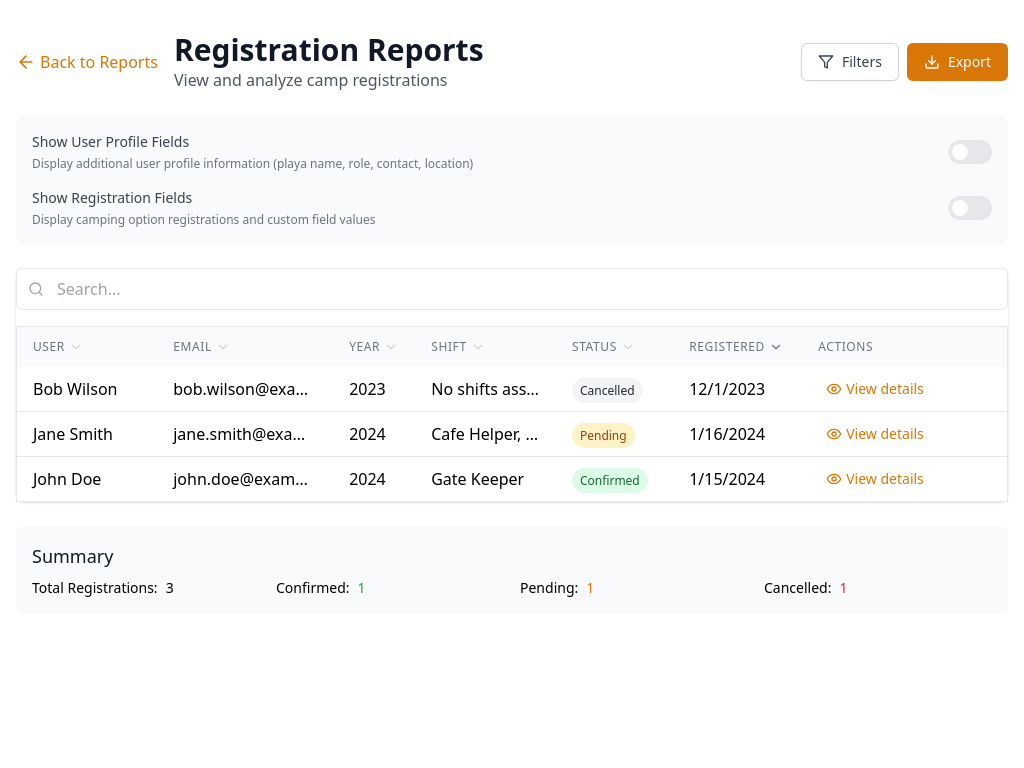
Test: RegistrationReportsPage › Filters Functionality › should populate year dropdown with available years from data
Open filters panel
What coordinates should you click on to do the following:
click the button "Filters"
I would click on:
 (850, 62)
Its box is x1=801 y1=43 x2=899 y2=81.
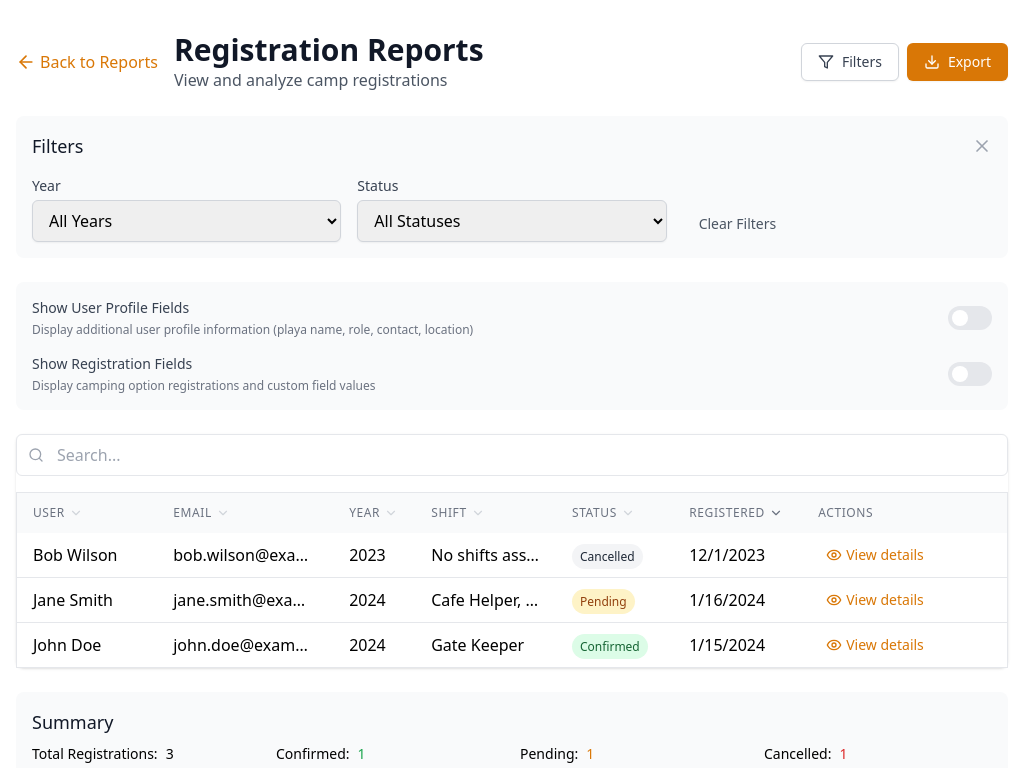
Result: the dropdown labelled "Year" is shown at x1=32 y1=200 x2=341 y2=242
